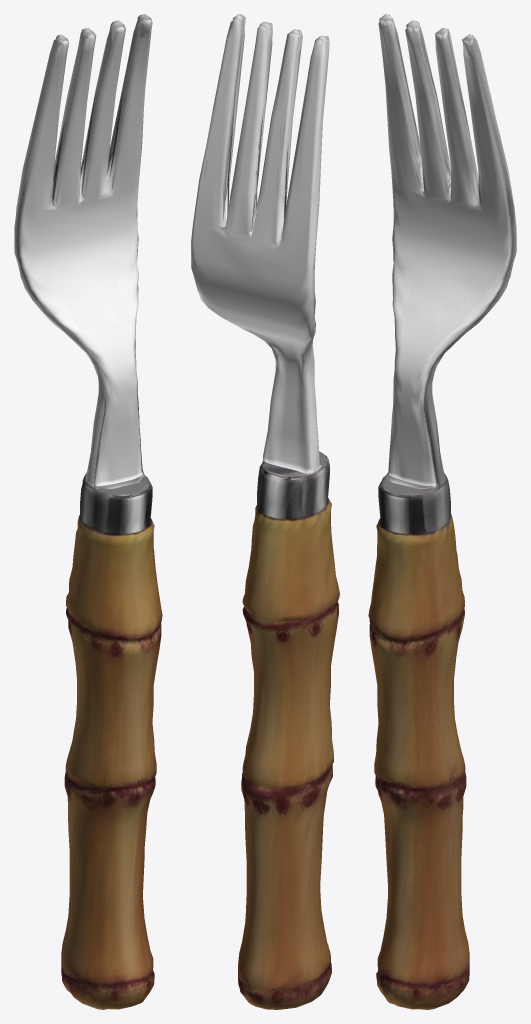
The model's file is Bamboo_dinner_fork_0225003623_texture.glb.
3 views of the same model, side by side, from view 1: azimuth 30°, elevation 25°; view 2: azimuth 150°, elevation 25°; view 3: azimuth 330°, elevation 25° (orthographic).
Visible parts, largest first — view 1: Mesh_0; view 2: Mesh_0; view 3: Mesh_0.
Part boxes in pixels (box(x1,y1,x2,y2)): Mesh_0: box(14, 14, 162, 1009); Mesh_0: box(191, 14, 339, 1009); Mesh_0: box(368, 14, 516, 1009).
Bounding box in the file's own units: 0.0263 × 0.2032 × 0.0263.
Materials: 1 (1 with a texture image).
